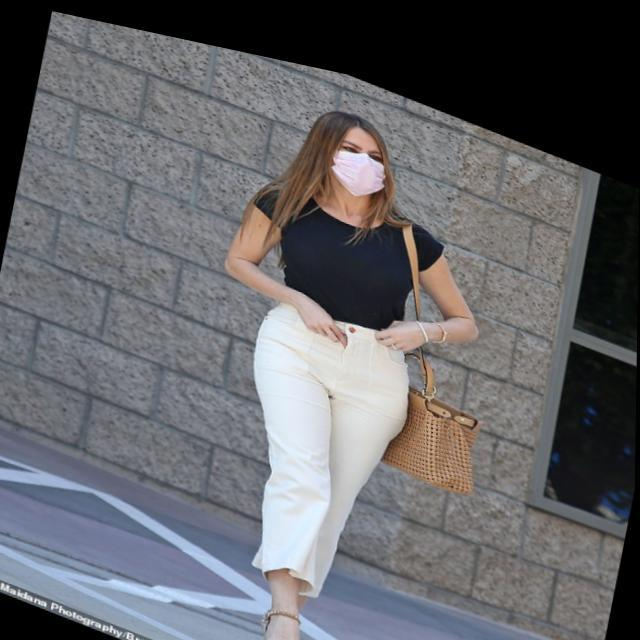Nonhelmet: (291, 108, 411, 209)
